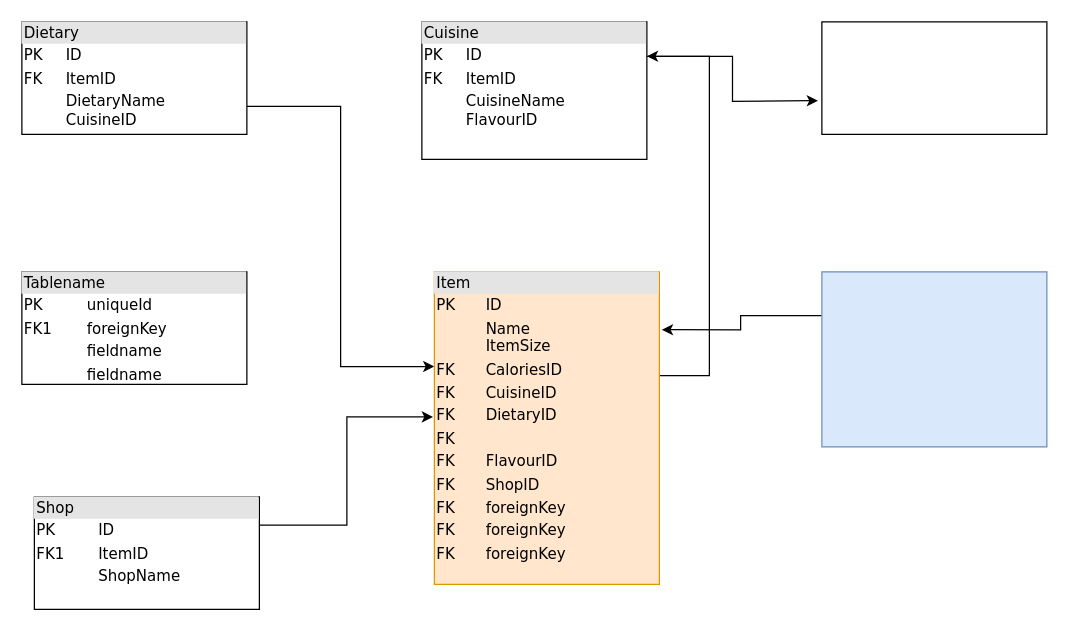
Some shapes in this 1069 by 631 pixel diagram are drawn without their labels. Here are the shapes that lost their labels. From the top down, the box of each, then its label:
(821, 21, 1047, 134): Flavour PK ID FK ItemID FK CuisineID FlavourName
(821, 271, 1047, 447): Nutrition PK ID FK ItemID Calories Fat SaturatedFat Sugars Salt
